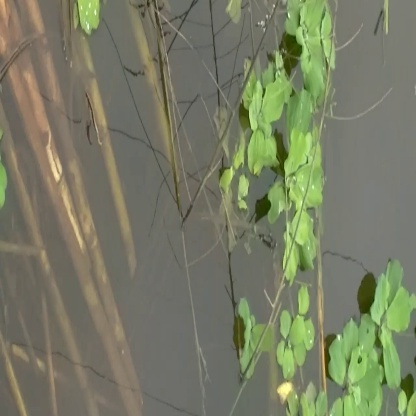branch: (8, 65, 149, 416)
